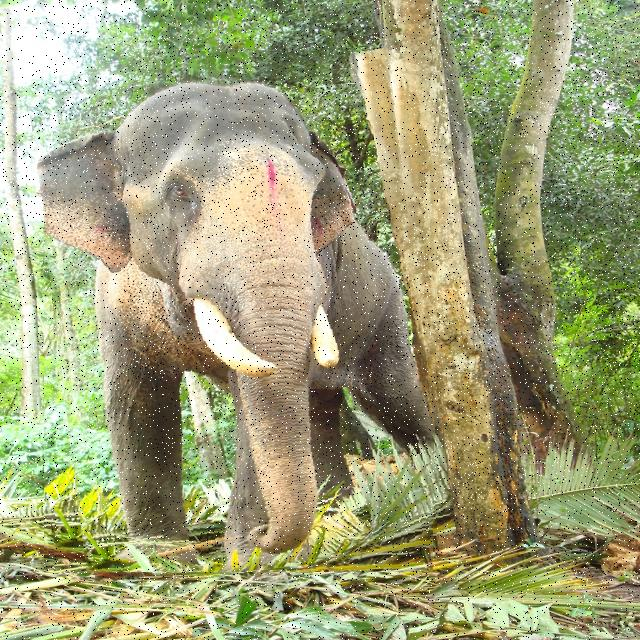elephant: (44, 60, 440, 572)
